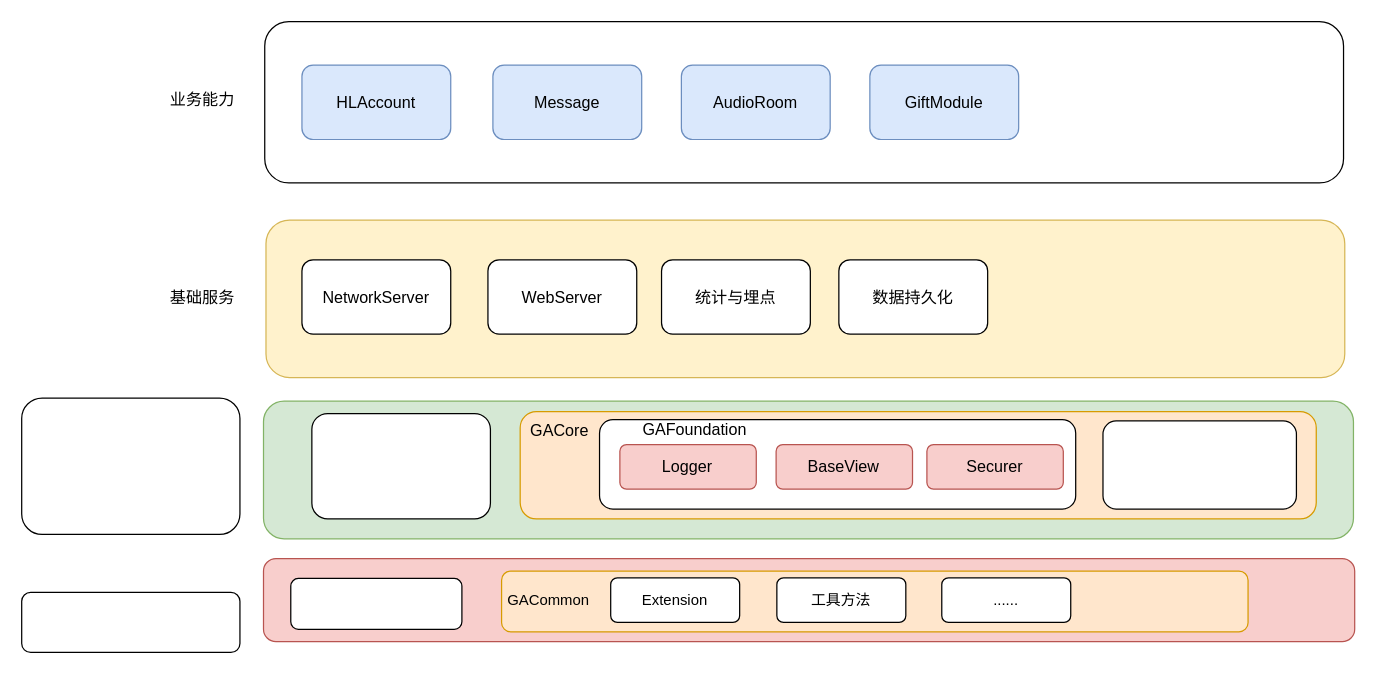
This 1376x675 diagram has some shape labels left out. The box of each missing label's shape, as (x1, y1, x2, y2) in pixels:
GACommon 通用基础库，包含扩展及一些工具方法、资源等: (20, 591, 240, 652)
GACore GAFoundation： App 通用工具下沉合并 GAUI：共用 UI: (20, 397, 240, 534)
GAUI: (1102, 420, 1296, 509)
二方库: (311, 412, 490, 519)
开源库: (290, 577, 462, 629)
